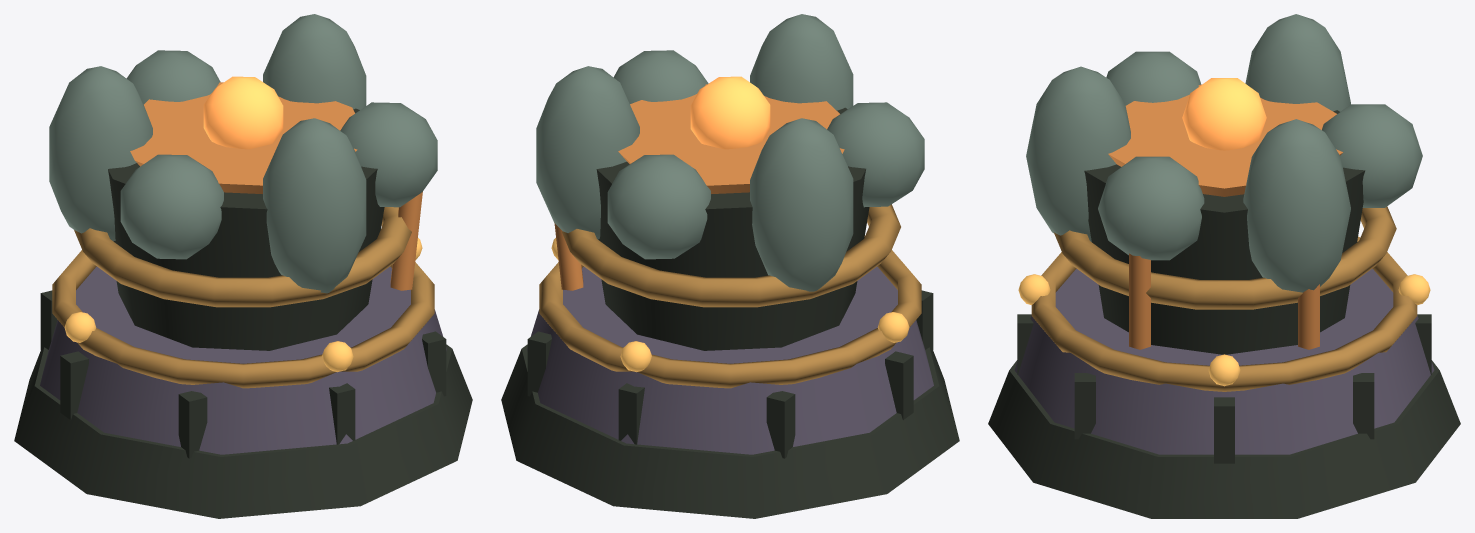
The model's file is tower_meteor_meteorMagma_ultimate.glb.
3 renders of one model, left to right at view 1: azimuth 30°, elevation 25°; view 2: azimuth 150°, elevation 25°; view 3: azimuth 270°, elevation 25°, orthographic.
Visible parts, largest first — view 1: foot_0, stone_1, crucible_15, basalt_20, basalt_22, rim_2, cauldron_band_24, basalt_21, lava_16, basalt_18, basalt_19, ember_23 (+9 smaller); view 2: foot_0, stone_1, crucible_15, basalt_22, basalt_18, rim_2, cauldron_band_24, basalt_17, lava_16, basalt_20, basalt_21, ember_23 (+9 smaller); view 3: stone_1, foot_0, crucible_15, basalt_18, rim_2, basalt_20, cauldron_band_24, basalt_19, lava_16, basalt_22, basalt_17, ember_23 (+11 smaller).
Part boxes in pixels (x1,y1,x2,y2): foot_0: (14,344,472,518); stone_1: (40,266,446,454); crucible_15: (108,108,384,350); basalt_20: (263,118,366,293); basalt_22: (49,66,152,241); rim_2: (52,250,434,388); cauldron_band_24: (74,207,411,307); basalt_21: (120,154,223,259); lava_16: (130,82,357,193); basalt_18: (263,14,366,109); basalt_19: (340,102,437,207); ember_23: (203,76,283,149); foot_0: (501,344,959,518); stone_1: (527,266,933,454); crucible_15: (596,107,869,350); basalt_22: (750,118,853,291); basalt_18: (536,66,639,239); rim_2: (539,236,921,388); cauldron_band_24: (562,204,900,307); basalt_17: (607,154,710,259); lava_16: (618,84,844,193); basalt_20: (750,14,853,110); basalt_21: (827,102,924,207); ember_23: (690,76,770,149); stone_1: (1014,269,1434,454); foot_0: (988,360,1460,518); crucible_15: (1084,110,1365,354); basalt_18: (1243,119,1350,292); rim_2: (1031,236,1417,391); basalt_20: (1026,66,1130,241); cauldron_band_24: (1054,206,1396,309); basalt_19: (1098,156,1204,260); lava_16: (1108,84,1343,196); basalt_22: (1245,14,1350,111); basalt_17: (1322,104,1422,207); ember_23: (1182,78,1266,150).
Bounding box in the file's own units: 0.5326 × 0.467 × 0.56.
